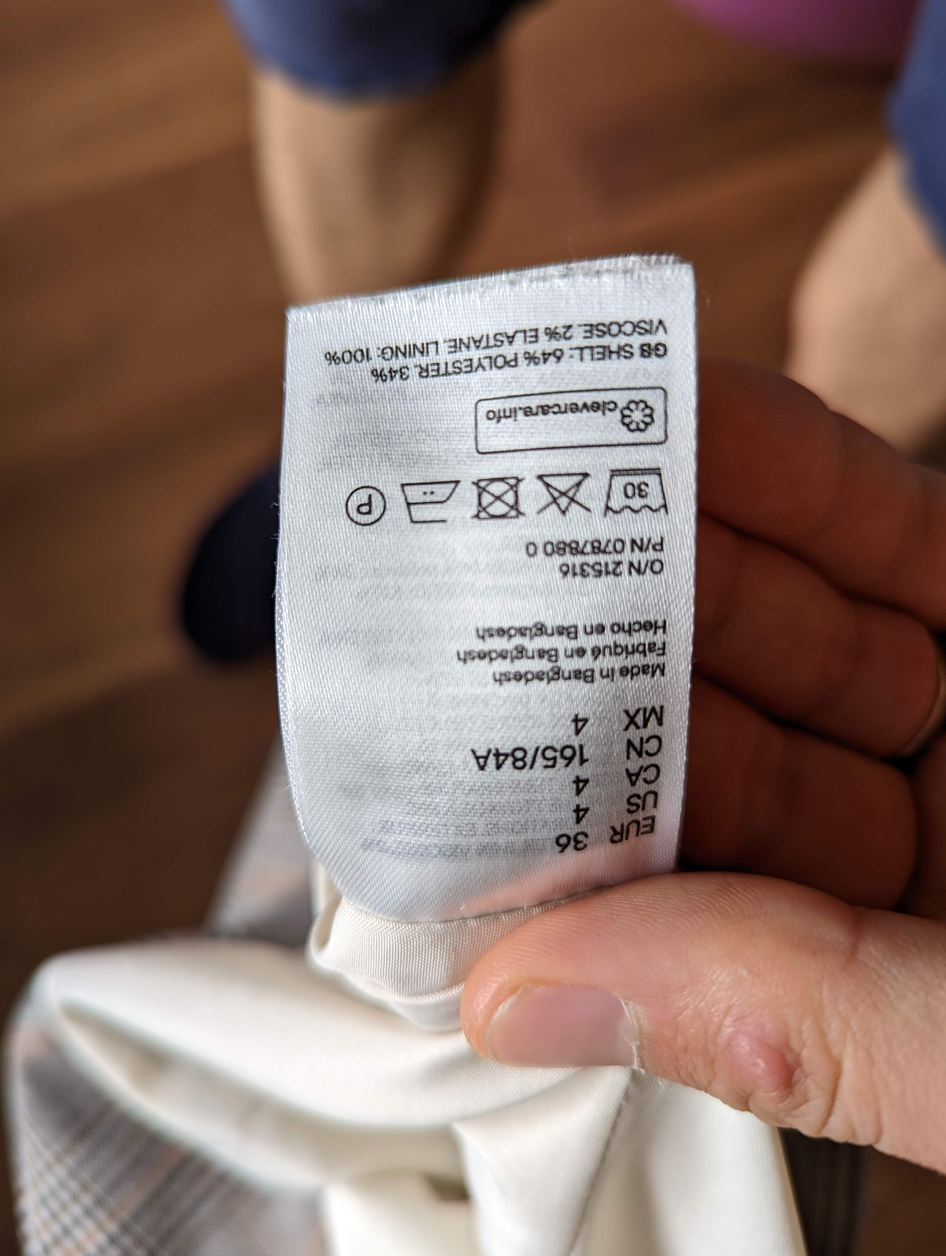ER_dry_clean_chemical: (342, 483, 389, 529)
ER_iron_medium_temp: (398, 477, 463, 526)
ER_no_bleach: (533, 469, 597, 521)
ER_no_tumble_dry: (470, 473, 530, 524)
ER_wash_30_mild: (602, 466, 674, 519)
